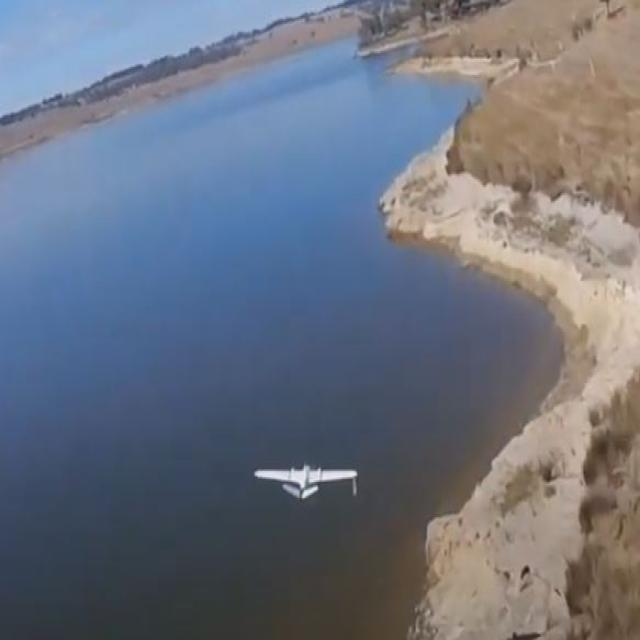iha: (285, 464, 326, 501)
